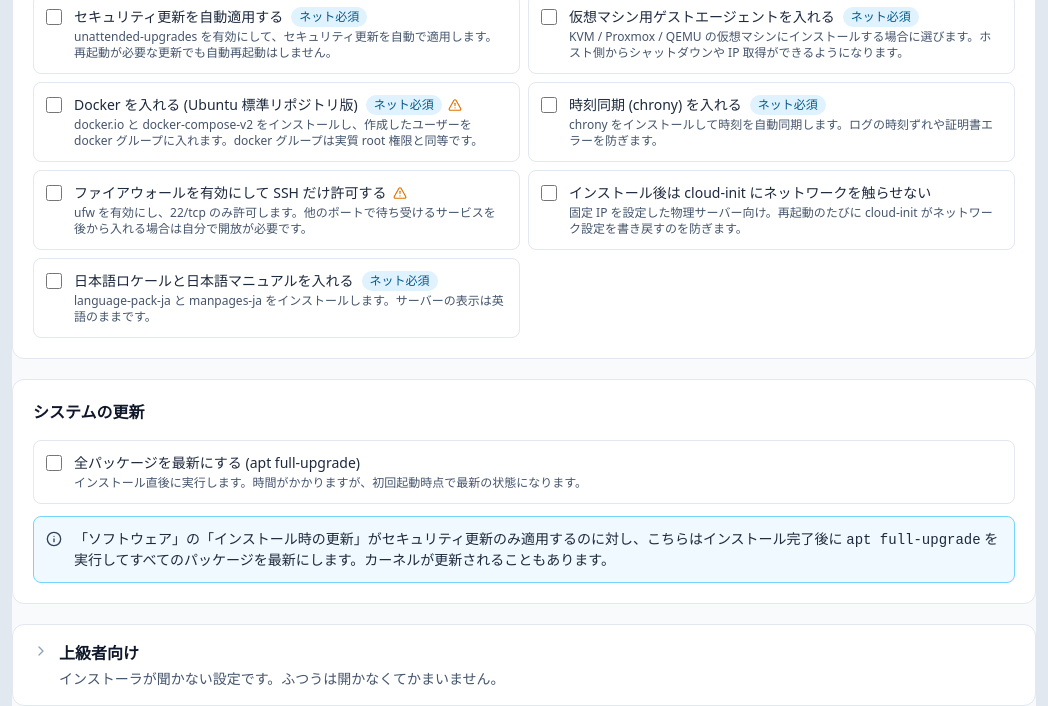
it: Active Directory を無効に戻したとき › 入力欄も画面から消える（隠れた値が残っていないことの裏取り）
(page scrolled)
Click the button "上級者向け インストーラが聞かない設定です。ふつうは開かなくてかまいません。".
click(99, 653)  # box top-left (13, 625), bottom-right (1035, 705)
(page scrolled)
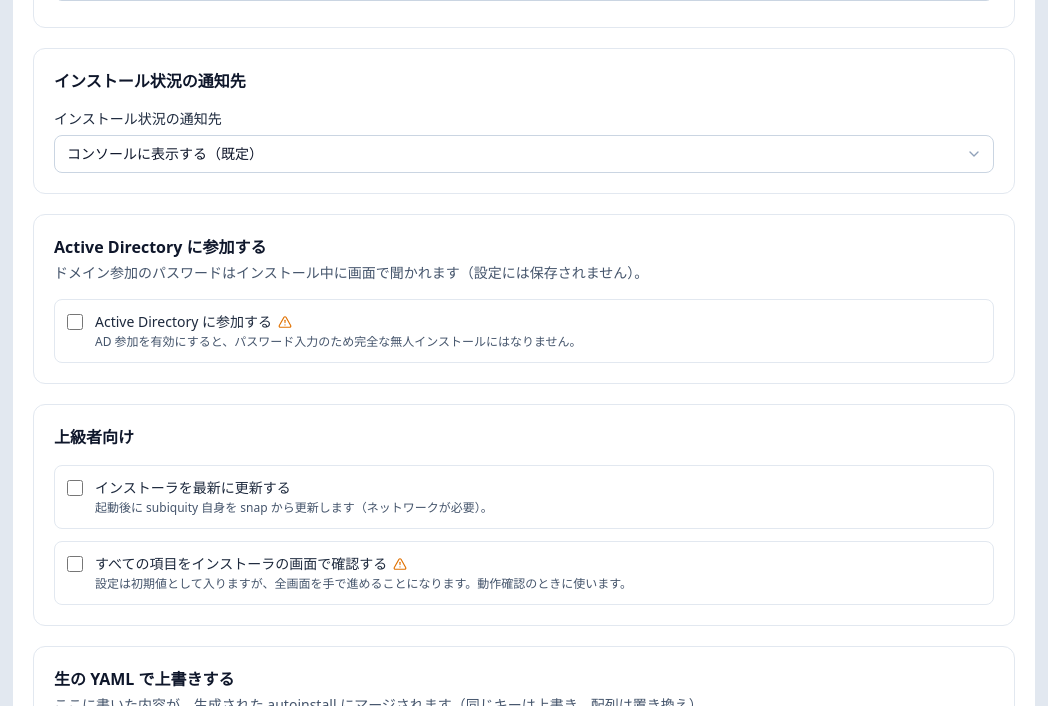
Result: the label that starts with "Active Directory に参加する" is shown at top-left (54, 299), bottom-right (994, 363)
Click the 1st checkbox.
click(75, 322)  # box top-left (67, 314), bottom-right (83, 330)
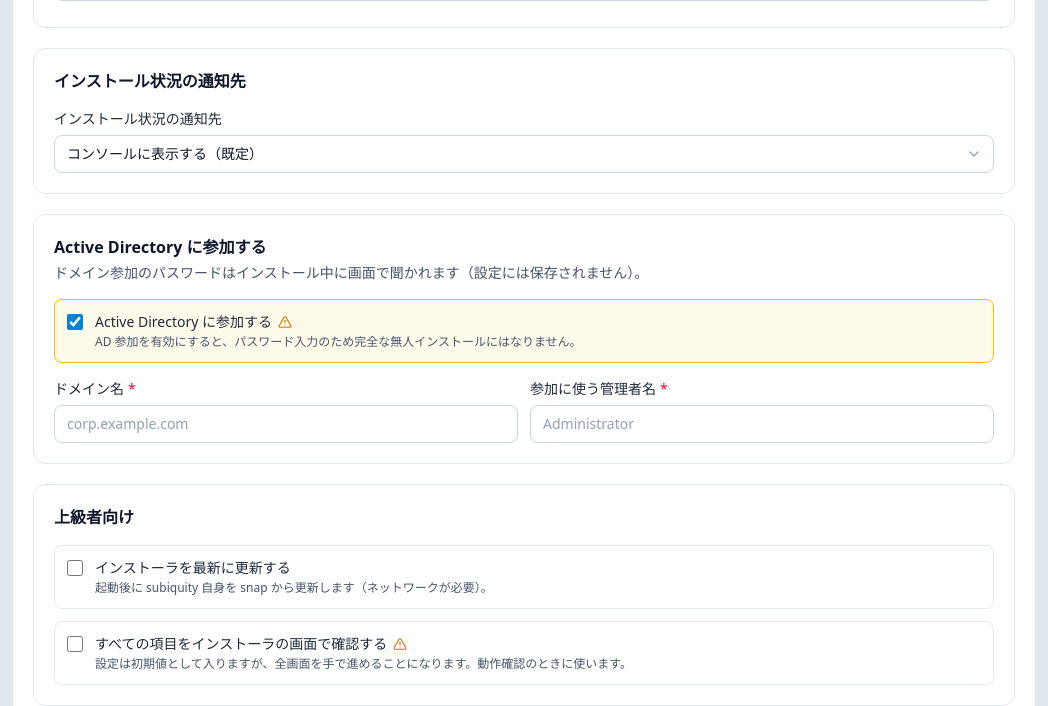
Result: the label that starts with "Active Directory に参加する" is shown at top-left (54, 299), bottom-right (994, 363)
Result: the text "ドメイン名" is shown at top-left (54, 379), bottom-right (124, 398)
Click the 1st checkbox.
click(75, 322)  # box top-left (67, 314), bottom-right (83, 330)
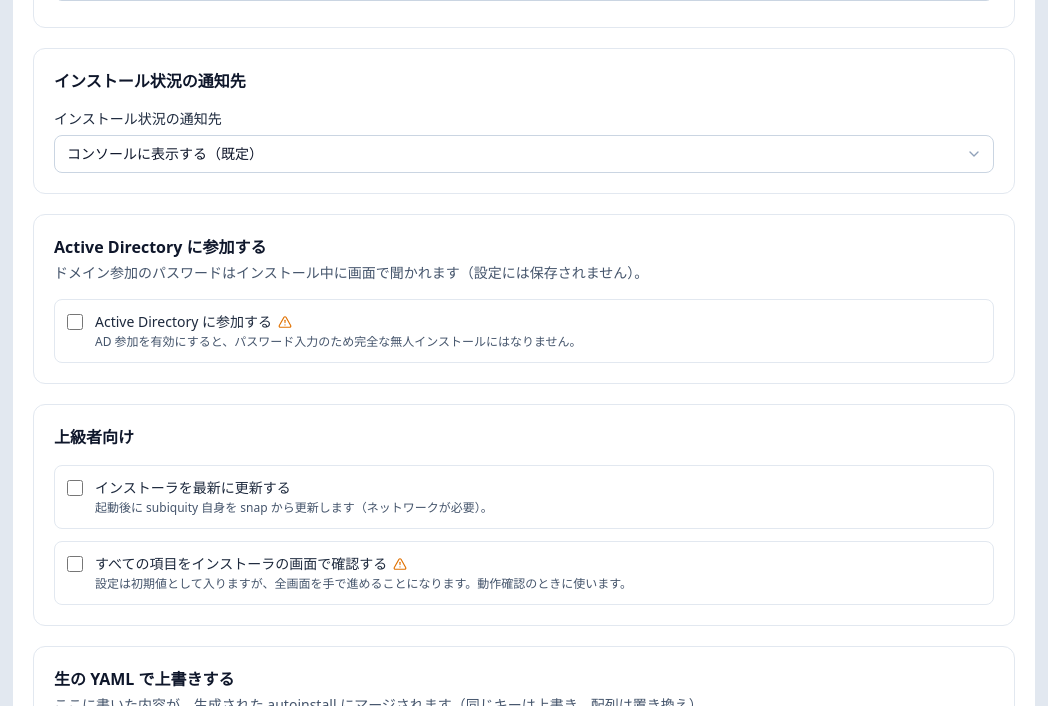
Result: the text "ドメイン名" is gone
